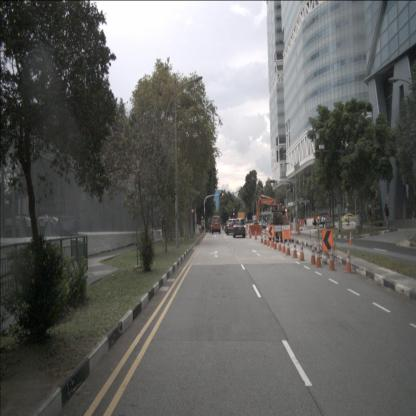human-pedestrian-adult: (384, 203, 390, 229), (373, 205, 379, 226), (368, 207, 372, 228), (162, 217, 166, 238), (321, 215, 325, 230), (303, 216, 306, 231)
movable_object-barrier: (318, 228, 336, 251), (282, 229, 291, 242), (268, 225, 275, 241), (295, 224, 300, 236), (292, 224, 297, 235), (299, 219, 305, 227)
movable_object-trafficcone: (343, 246, 355, 274), (328, 248, 336, 272), (315, 244, 323, 267), (309, 243, 317, 265), (299, 240, 305, 262), (292, 239, 298, 259), (286, 238, 292, 256), (348, 230, 353, 247), (278, 235, 283, 250), (282, 237, 286, 254), (266, 234, 271, 247), (273, 235, 277, 250), (260, 232, 264, 244), (254, 230, 258, 240), (264, 233, 267, 246), (308, 228, 312, 237), (249, 231, 252, 238), (245, 230, 247, 236)
vehicle-car: (232, 218, 245, 238), (212, 215, 221, 234), (226, 219, 236, 235), (316, 215, 331, 225), (341, 213, 356, 223), (224, 220, 233, 234), (260, 221, 266, 228)
